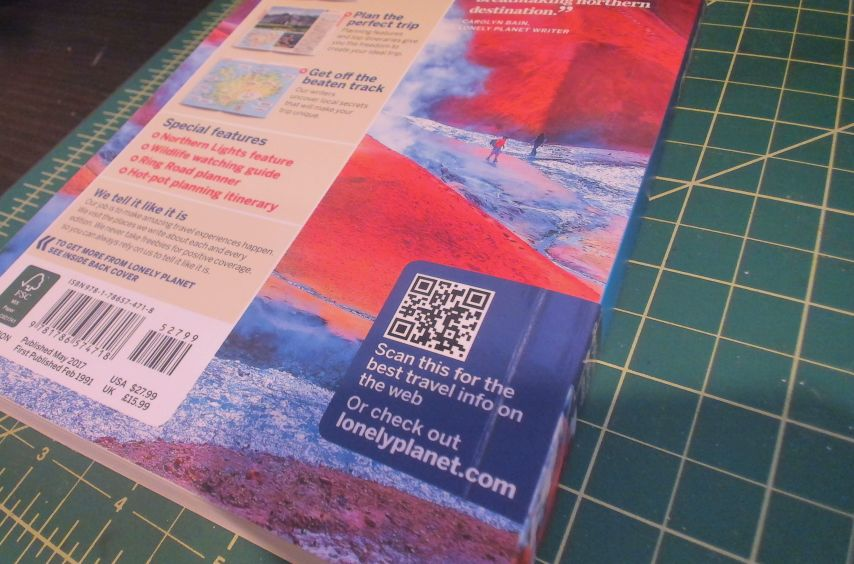QR_CODE: (375, 258, 503, 367)
